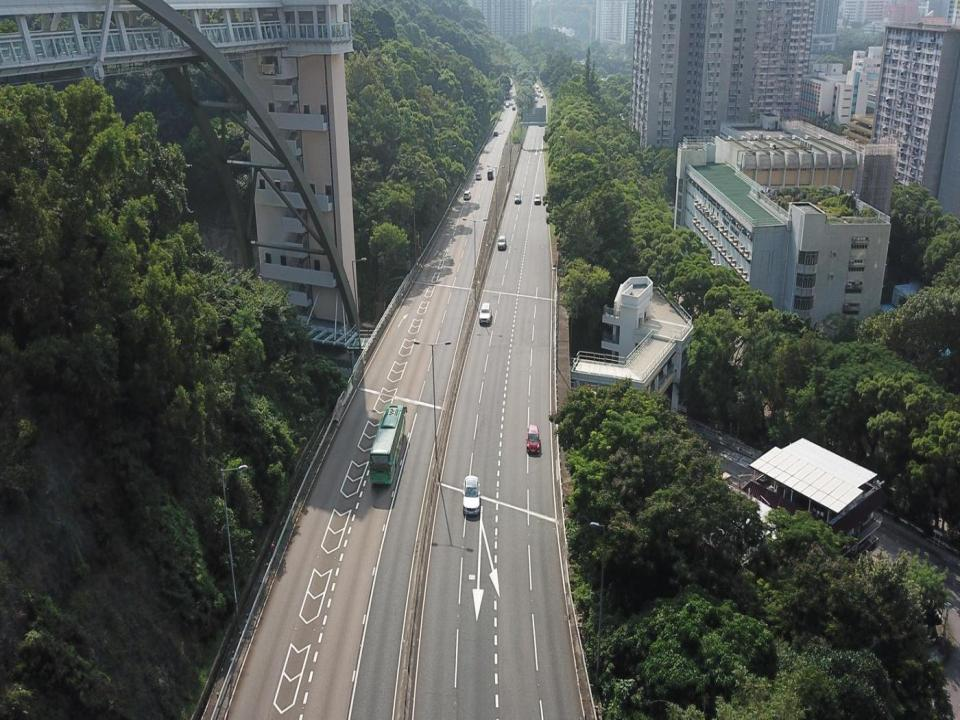bus: (369, 404, 407, 485), (487, 168, 494, 181)
car: (462, 474, 482, 516), (525, 424, 541, 454), (478, 302, 492, 326), (497, 235, 507, 249), (463, 189, 472, 200), (514, 192, 522, 204), (534, 194, 541, 204), (475, 172, 482, 181), (533, 95, 539, 103), (493, 130, 499, 137), (511, 104, 516, 112), (504, 101, 509, 109), (535, 82, 540, 89), (537, 87, 542, 92), (540, 92, 544, 98)
